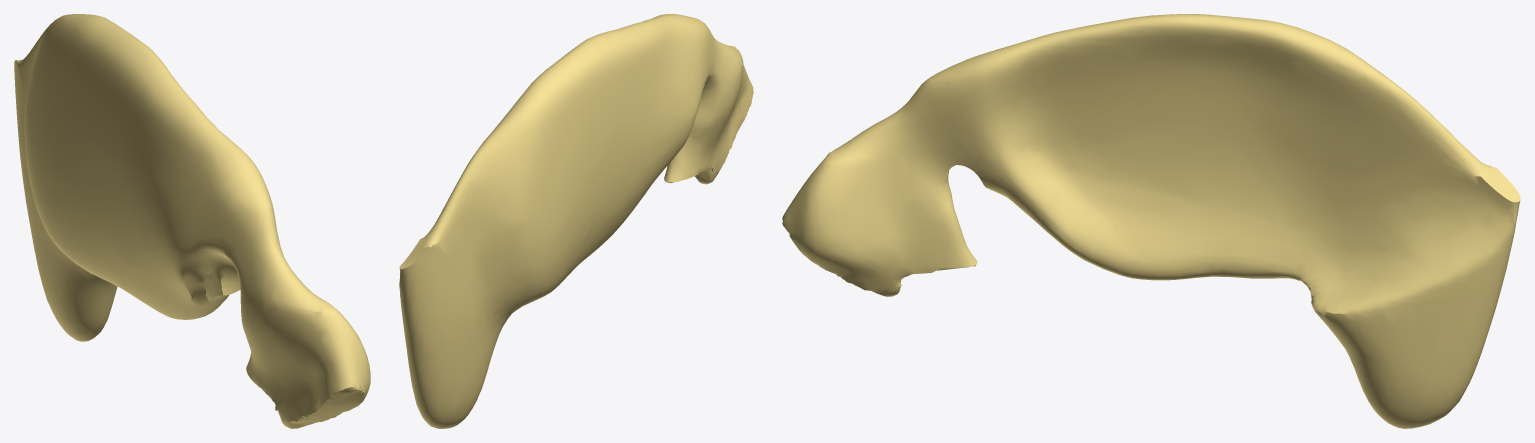
File: fma62152-l_mm2820.glb
3 views of the same model, side by side, from view 1: azimuth 30°, elevation 25°; view 2: azimuth 150°, elevation 25°; view 3: azimuth 270°, elevation 25° (orthographic). The views are drawn at different scales.
Parts seen in each view (by area): view 1: FMA62152-L_MM2820; view 2: FMA62152-L_MM2820; view 3: FMA62152-L_MM2820.
Boxes of the visible parts, x1,y1,x2,y2 form: FMA62152-L_MM2820: (14, 14, 370, 428); FMA62152-L_MM2820: (399, 14, 753, 428); FMA62152-L_MM2820: (782, 14, 1520, 428).
Bounding box in the file's own units: 0.00442 × 0.0132 × 0.0229.
